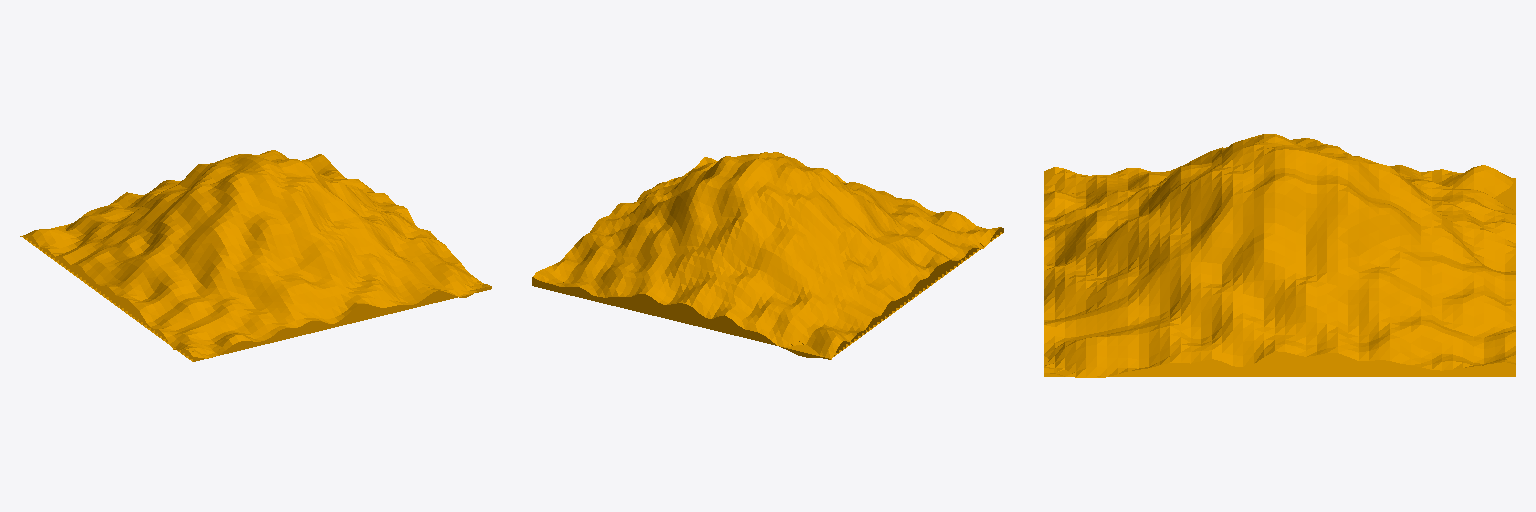
The robot description file, URDF, robot "mountain":
<?xml version="1.0"?>
<robot name="mountain">
  <link name="baseLink">
    <inertial>
      <origin xyz="0 0 0" rpy="0 0 0"/>
      <mass value="1"/>
      <inertia ixx="1" ixy="0" ixz="0" iyy="1" iyz="0" izz="1"/>
    </inertial>
    <visual>
      <origin xyz="0 0 0" rpy="0 0 0"/>
      <geometry>
        <mesh filename="gaussian_pyramid_larger_wider_2.obj" scale="1 1 1"/>
      </geometry>
    </visual>
    <collision>
      <origin xyz="0 0 0" rpy="0 0 0"/>
      <geometry>
        <mesh filename="gaussian_pyramid_larger_wider_2.obj" scale="1 1 1"/>
      </geometry>
    </collision>
  </link>
</robot>

--- What the picture shows (computed from the rendered views, not written in the file) ---
Views: 3 orthographic renders of the robot side by side, from view 1: azimuth 30°, elevation 25°; view 2: azimuth 150°, elevation 25°; view 3: azimuth 270°, elevation 25°.
Model mountain with 1 links and 0 joints (none), rooted at baseLink, posed every joint at zero.
Visible links, largest first — view 1: baseLink; view 2: baseLink; view 3: baseLink.
Link boxes in pixels (x1,y1,x2,y2): baseLink: [20, 150, 491, 361]; baseLink: [532, 152, 1003, 359]; baseLink: [1044, 134, 1515, 377].
Size in the robot's own frame: 22.5 by 22.5 by 7.47 metres.
1 mesh visuals loaded from 1 distinct referenced files (1 OBJ).